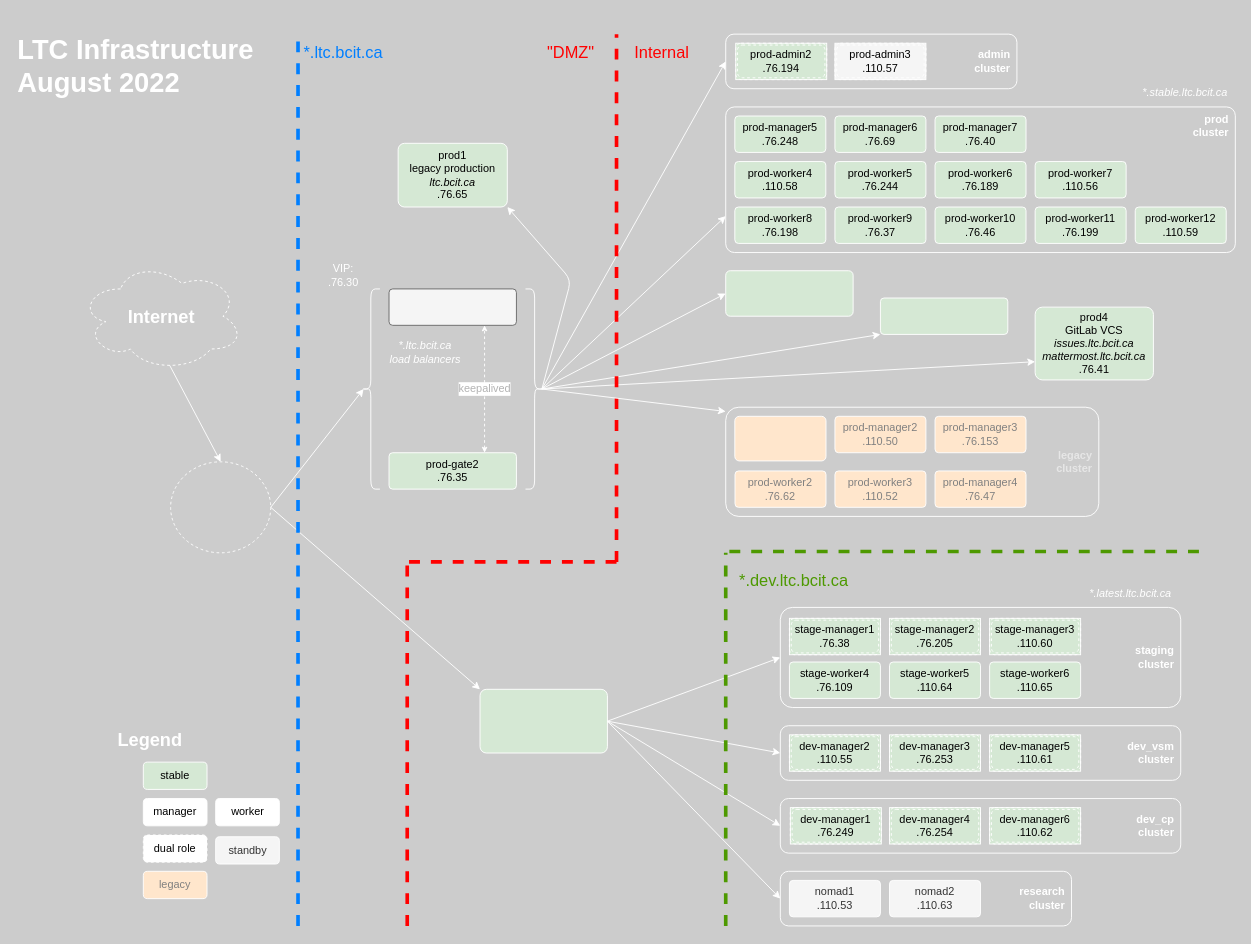
This 1251x944 diagram has some shape labels left out. The shapes that lost their labels are listed below. From the top down, each one's centre as x and y in pixels, then its label:
the point at 452,306: prod-gate1 .76.186
the point at 789,293: vault1 vault.ltc.bcit.ca .76.63
the point at 944,315: utility1 .110.66
the point at 780,438: prod-admin1 rancher.ltc.bcit.ca .110.51
the point at 220,507: ITS DNS
the point at 543,720: dev-gate3 *.dev.ltc.bcit.ca load balancer .110.54
